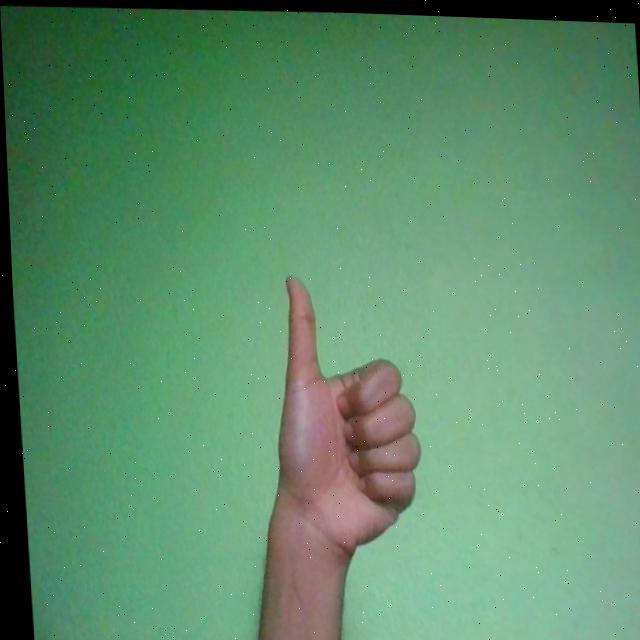Good Job: (264, 269, 423, 560)
